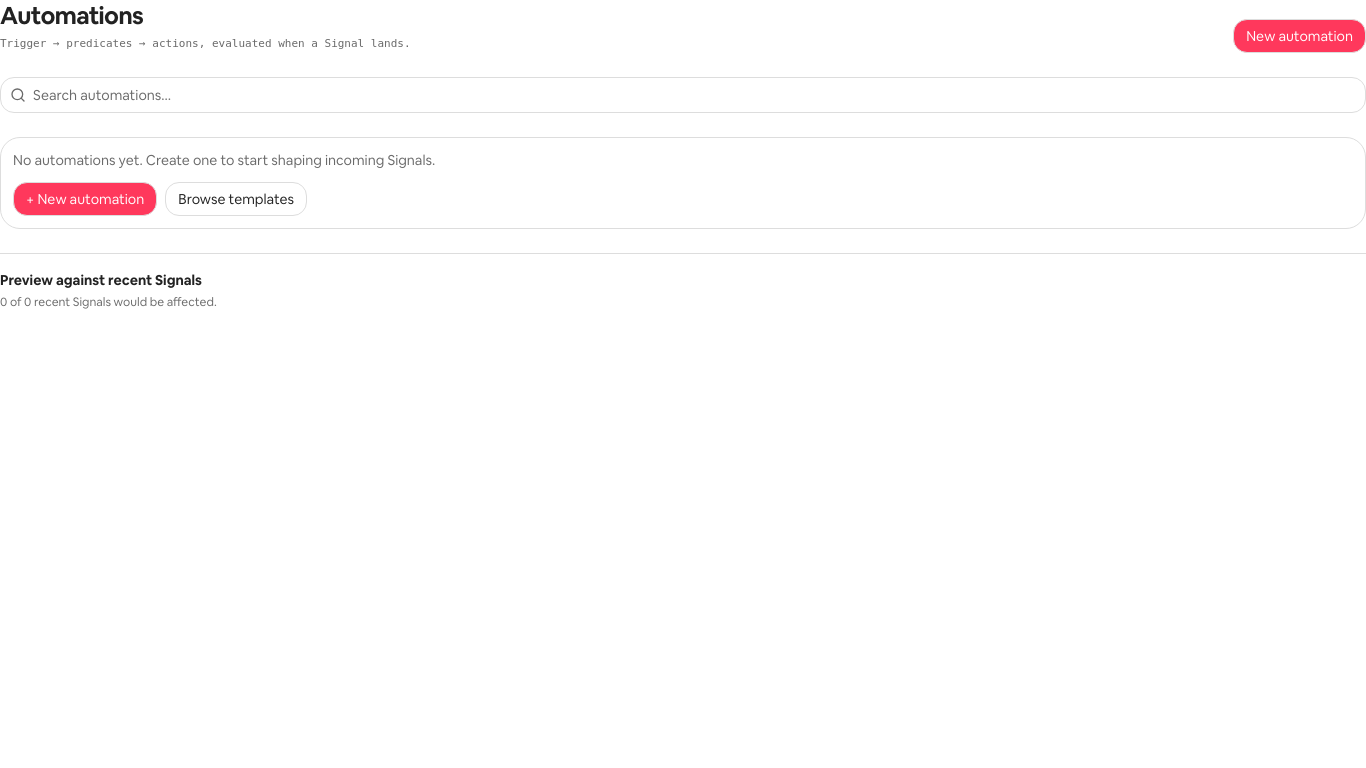
Test: AutomationsPanel empty-state Browse templates › opens the templates modal listing the fixture templates
The image size is (1366, 768).
What coordinates should you click on to do the following:
click the button "Browse templates"
I would click on:
 (236, 198)
Its box is x1=165 y1=182 x2=307 y2=216.
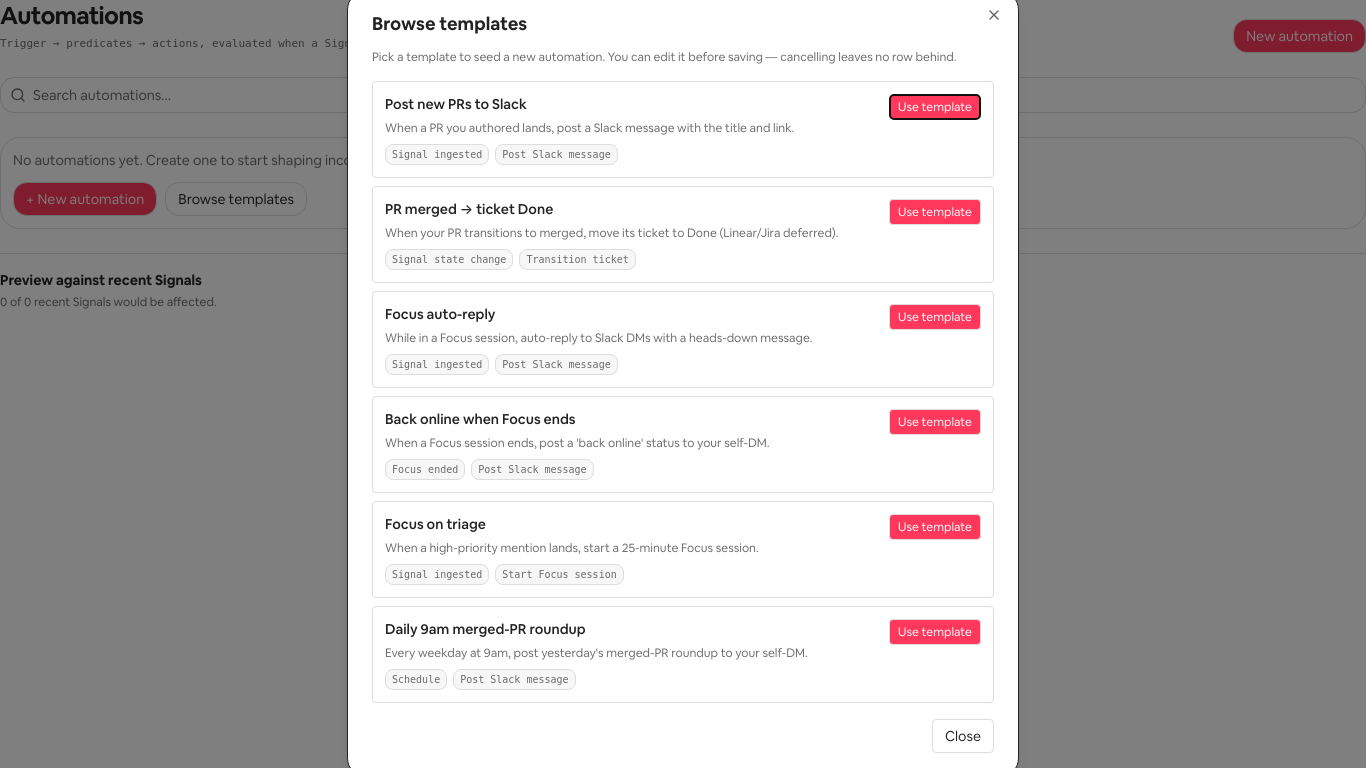
Result: the list named "Automation templates" is shown at x1=372 y1=81 x2=994 y2=703
Result: the text "Post new PRs to Slack" is shown at x1=385 y1=95 x2=527 y2=113
Result: the text "PR merged → ticket Done" is shown at x1=385 y1=200 x2=553 y2=218
